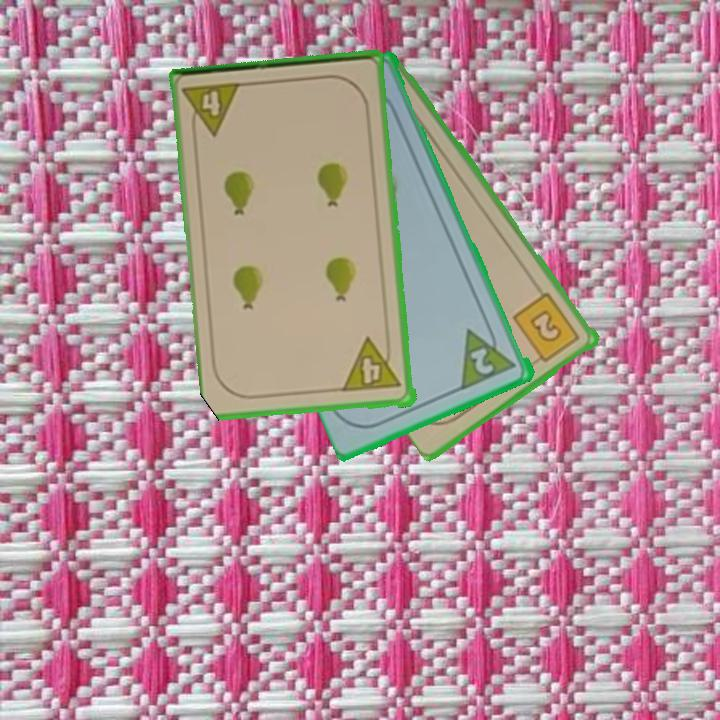2b: (510, 289, 583, 368)
2p: (458, 318, 520, 393)
4p: (179, 79, 244, 142), (341, 334, 405, 395)
